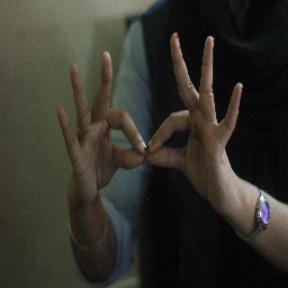B: (87, 87, 211, 178)
